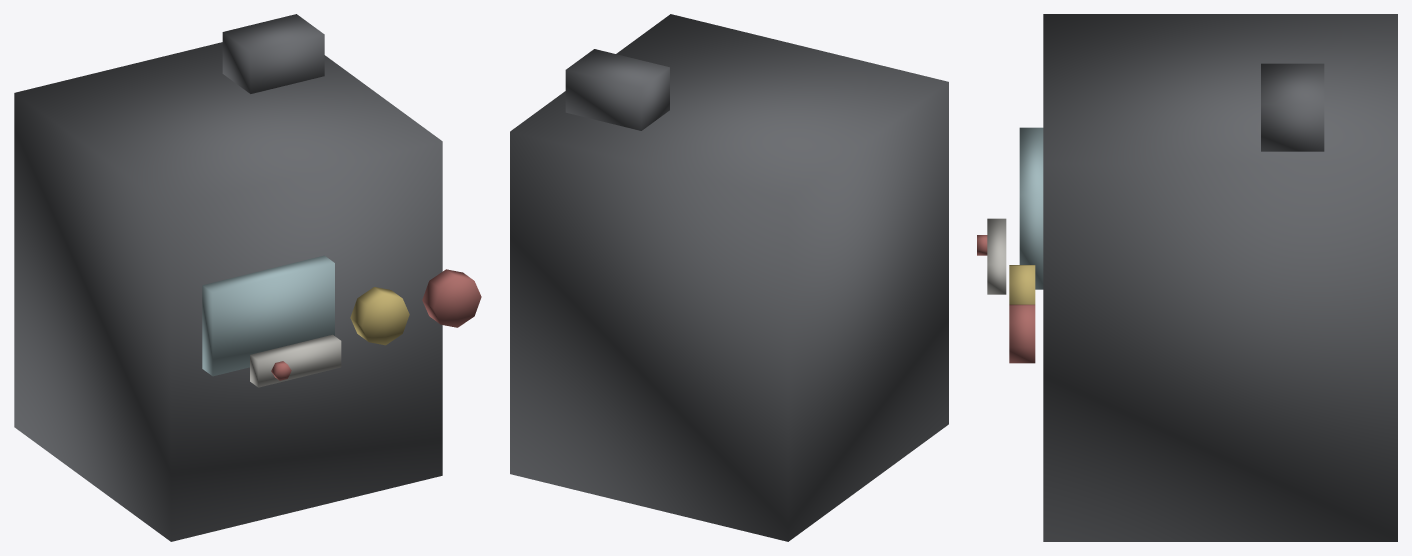
Rendered from multimeter_station__service.glb.
3 renders of one model, left to right at view 1: azimuth 30°, elevation 25°; view 2: azimuth 150°, elevation 25°; view 3: azimuth 270°, elevation 25°, orthographic. The views are drawn at different scales.
Visible parts, largest first — view 1: world; view 2: world; view 3: world.
Part boxes in pixels (x1=…): world: x1=14, y1=14, x2=481, y2=541; world: x1=510, y1=14, x2=948, y2=541; world: x1=977, y1=14, x2=1397, y2=541.
Bounding box in the file's own units: 0.37 × 0.45 × 0.4035.
